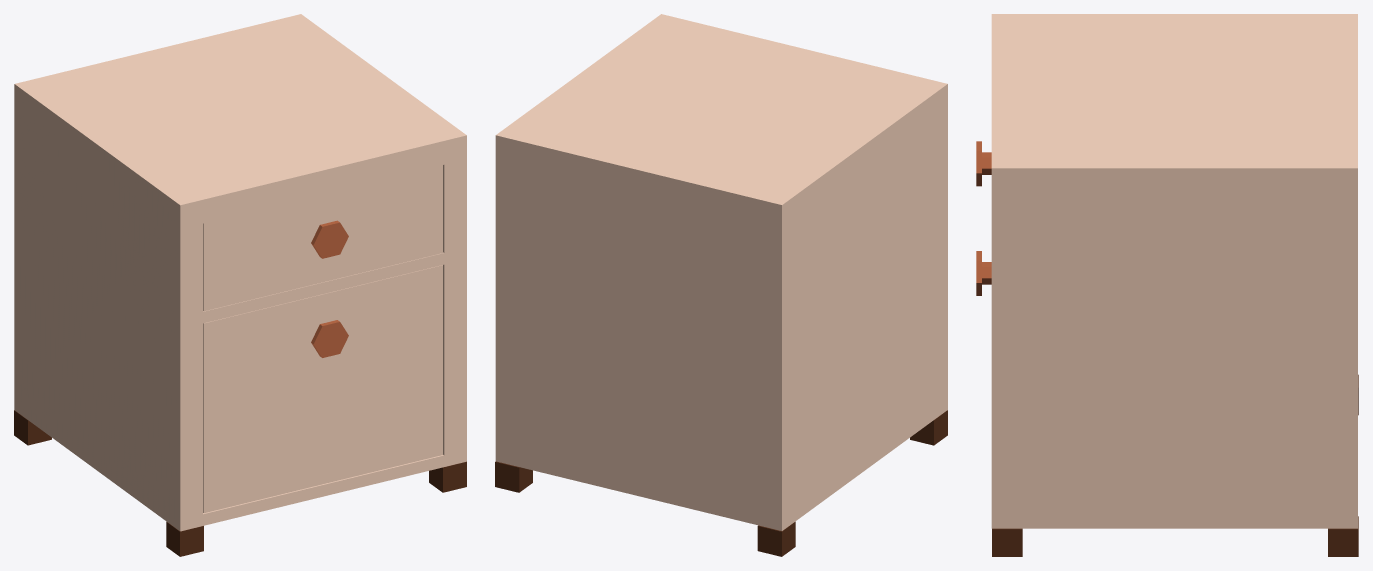
File: PW_cupboard_narrow.fbx
The picture shows the model from 3 angles, left to right: view 1: azimuth 30°, elevation 25°; view 2: azimuth 150°, elevation 25°; view 3: azimuth 270°, elevation 25°; orthographic projection. The views are drawn at different scales.
Parts seen in each view (by area): view 1: cupboard, drawer02, drawer01; view 2: cupboard; view 3: cupboard, drawer01, drawer02.
Boxes of the visible parts, x1,y1,x2,y2 form: cupboard: (14, 14, 466, 556); drawer02: (203, 265, 442, 513); drawer01: (203, 165, 442, 311); cupboard: (495, 14, 947, 556); cupboard: (991, 14, 1358, 556); drawer01: (976, 141, 991, 186); drawer02: (976, 251, 991, 295).
Size of the model in its own units: 1.19 by 1.4 by 1.25.
